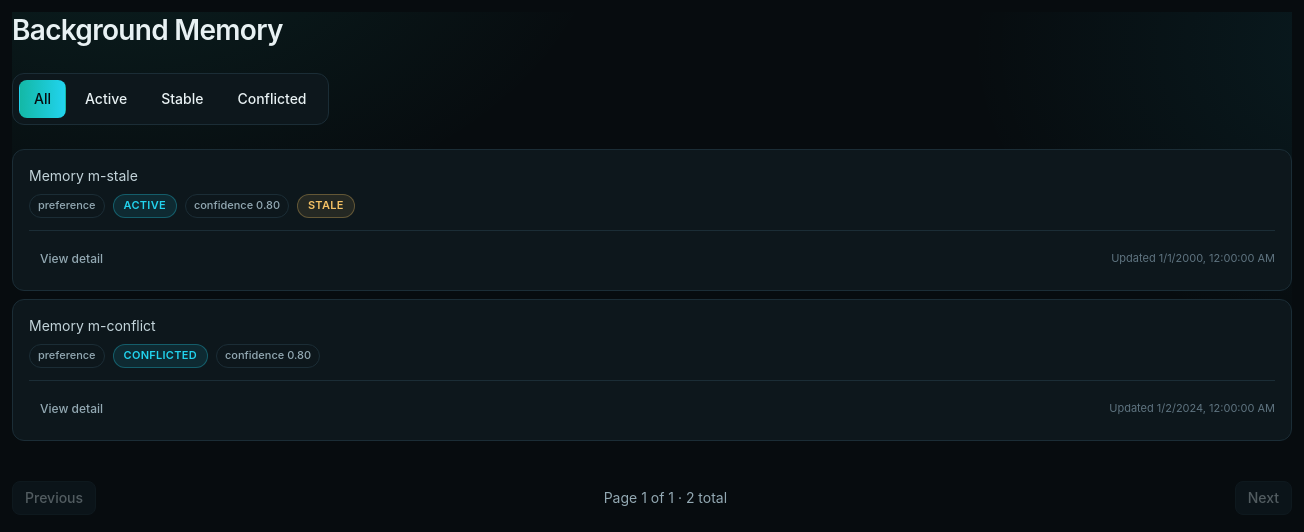
BackgroundMemoryPage › filters by status and marks stale memories
The width and height of the screenshot is (1304, 532).
Expected: the text with test id "memory-updated-m-conflict" shows "2024", [1109,401,1275,415]
Expected: the text "stale" is shown, [297,194,355,218]
Click the button "Conflicted" at (272, 99), box [222,80,322,118]
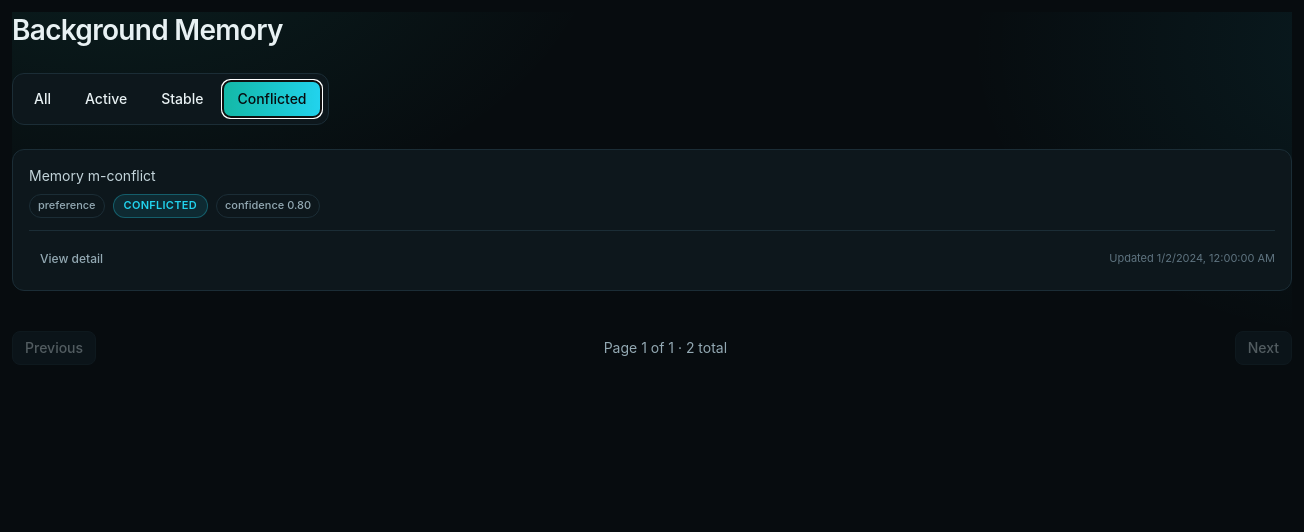
Result: the list item with test id "memory-m-stale" is gone
